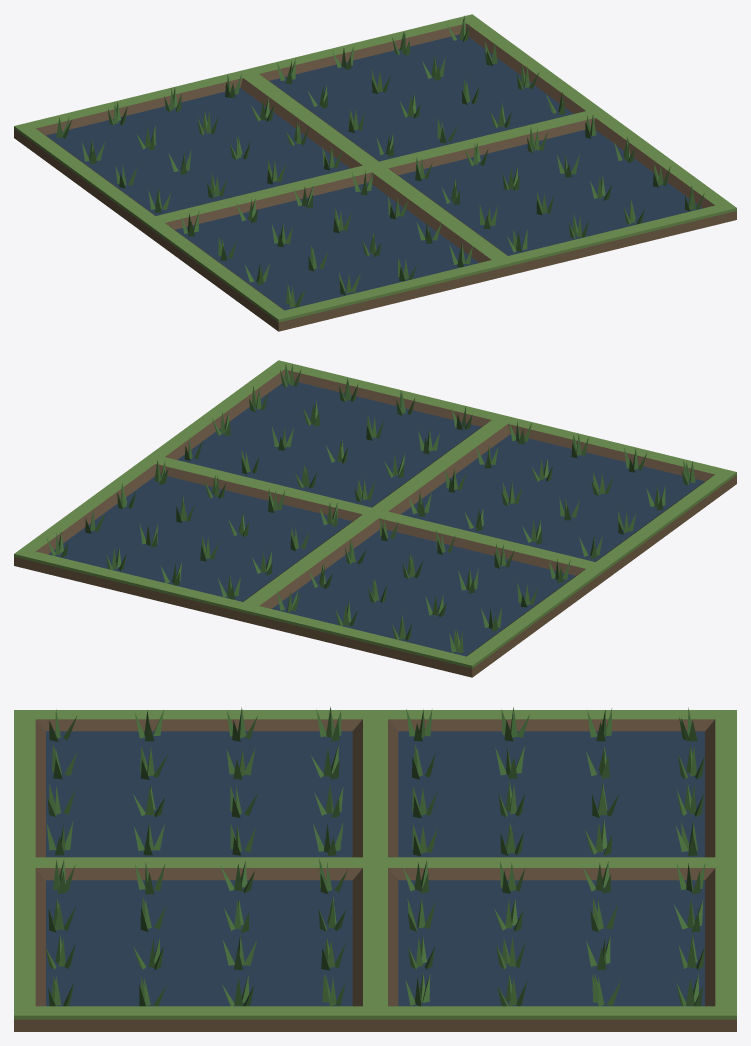
File: rice-paddy-tile-dc727e.glb
3 views of the same model, one above another, from view 1: azimuth 30°, elevation 25°; view 2: azimuth 150°, elevation 25°; view 3: azimuth 270°, elevation 25° (orthographic). The views are drawn at different scales.
Visible parts, largest first — view 1: rice-paddy; view 2: rice-paddy; view 3: rice-paddy.
Part boxes in pixels (x1,y1,x2,y2): rice-paddy: [14, 14, 736, 331]; rice-paddy: [14, 360, 736, 677]; rice-paddy: [14, 707, 736, 1031].
Size of the model in its own units: 2 by 0.1168 by 2.
